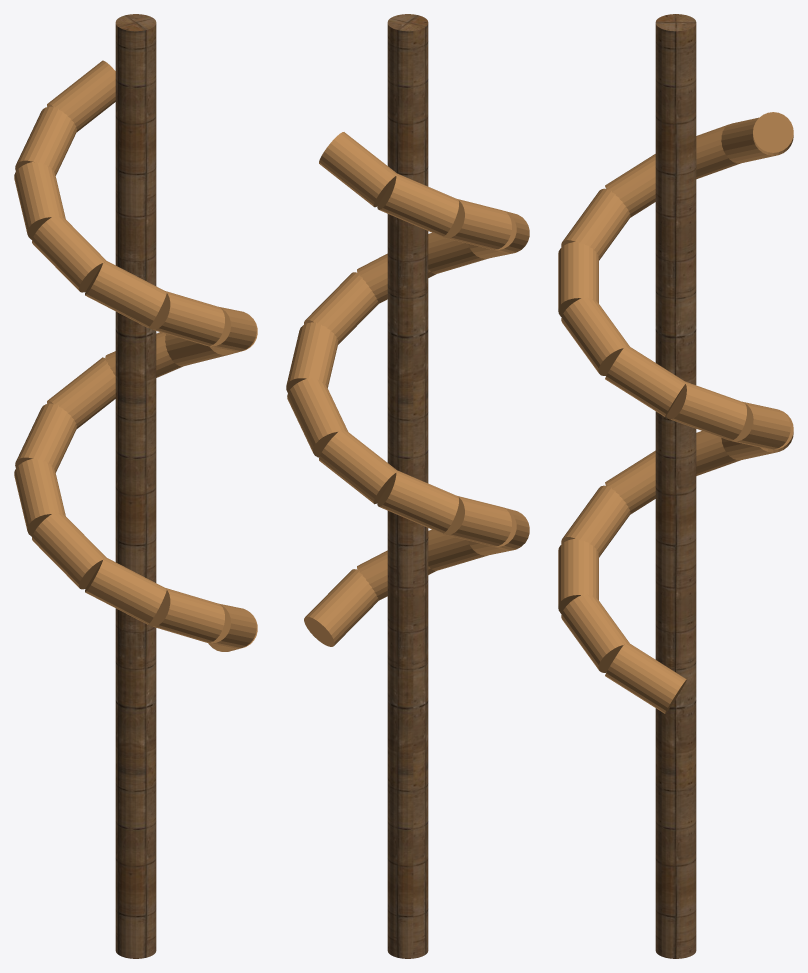
File: serpente_bronze.glb
The picture shows the model from 3 angles, left to right: view 1: azimuth 30°, elevation 25°; view 2: azimuth 150°, elevation 25°; view 3: azimuth 270°, elevation 25°; orthographic projection.
Parts seen in each view (by area): view 1: Haste, Serpente estilizada.003, Serpente estilizada.013, Serpente estilizada.014, Serpente estilizada.004, Serpente estilizada.002, Serpente estilizada.012, Serpente estilizada.017, Serpente estilizada.005, Serpente estilizada.015, Serpente estilizada.007, Serpente estilizada.016 (+5 smaller); view 2: Haste, Serpente estilizada, Serpente estilizada.006, Serpente estilizada.016, Serpente estilizada.017, Serpente estilizada.007, Serpente estilizada.008, Serpente estilizada.010, Serpente estilizada.009, Serpente estilizada.015, Serpente estilizada.005, Serpente estilizada.002 (+5 smaller); view 3: Haste, Serpente estilizada, Serpente estilizada.010, Serpente estilizada.009, Serpente estilizada.001, Serpente estilizada.011, Serpente estilizada.003, Serpente estilizada.013, Serpente estilizada.012, Serpente estilizada.002, Serpente estilizada.008, Serpente estilizada.004 (+6 smaller).
Part boxes in pixels (left/top/right/bottom): Haste: left=115, top=14, right=156, bottom=958; Serpente estilizada.003: left=85, top=557, right=166, bottom=624; Serpente estilizada.013: left=85, top=260, right=166, bottom=327; Serpente estilizada.014: left=32, top=216, right=105, bottom=292; Serpente estilizada.004: left=32, top=512, right=106, bottom=589; Serpente estilizada.002: left=148, top=588, right=224, bottom=642; Serpente estilizada.012: left=149, top=291, right=224, bottom=345; Serpente estilizada.017: left=47, top=60, right=115, bottom=131; Serpente estilizada.005: left=14, top=458, right=65, bottom=536; Serpente estilizada.015: left=14, top=161, right=65, bottom=239; Serpente estilizada.007: left=47, top=357, right=115, bottom=428; Serpente estilizada.016: left=15, top=106, right=76, bottom=175; Haste: left=387, top=14, right=428, bottom=958; Serpente estilizada: left=304, top=569, right=378, bottom=646; Serpente estilizada.006: left=377, top=470, right=458, bottom=533; Serpente estilizada.016: left=377, top=173, right=458, bottom=236; Serpente estilizada.017: left=319, top=132, right=397, bottom=207; Serpente estilizada.007: left=319, top=430, right=396, bottom=504; Serpente estilizada.008: left=287, top=378, right=348, bottom=457; Serpente estilizada.010: left=304, top=272, right=378, bottom=344; Serpente estilizada.009: left=286, top=322, right=338, bottom=392; Serpente estilizada.015: left=443, top=198, right=511, bottom=249; Serpente estilizada.005: left=443, top=496, right=511, bottom=546; Serpente estilizada.002: left=428, top=529, right=487, bottom=570; Haste: left=655, top=14, right=696, bottom=958; Serpente estilizada: left=605, top=643, right=686, bottom=713; Serpente estilizada.010: left=605, top=346, right=685, bottom=416; Serpente estilizada.009: left=666, top=381, right=746, bottom=440; Serpente estilizada.001: left=561, top=594, right=629, bottom=672; Serpente estilizada.011: left=561, top=297, right=629, bottom=375; Serpente estilizada.003: left=561, top=485, right=630, bottom=557; Serpente estilizada.013: left=561, top=188, right=630, bottom=260; Serpente estilizada.012: left=558, top=241, right=598, bottom=316; Serpente estilizada.002: left=558, top=538, right=598, bottom=613; Serpente estilizada.008: left=731, top=401, right=790, bottom=449; Serpente estilizada.004: left=605, top=450, right=655, bottom=514.
Bounding box in the file's own units: 0.5957 × 2.5 × 0.5755.
Materials: 2 (1 with a texture image).
